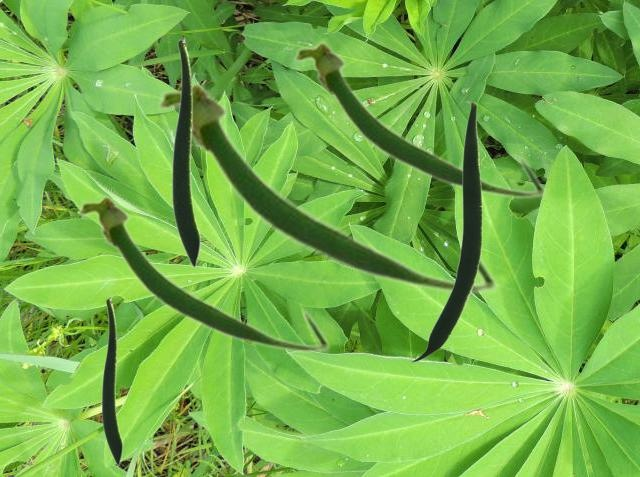french_bean: (155, 79, 498, 295), (292, 39, 546, 199), (76, 193, 330, 353), (410, 101, 481, 361), (171, 36, 200, 267), (101, 296, 122, 465)
